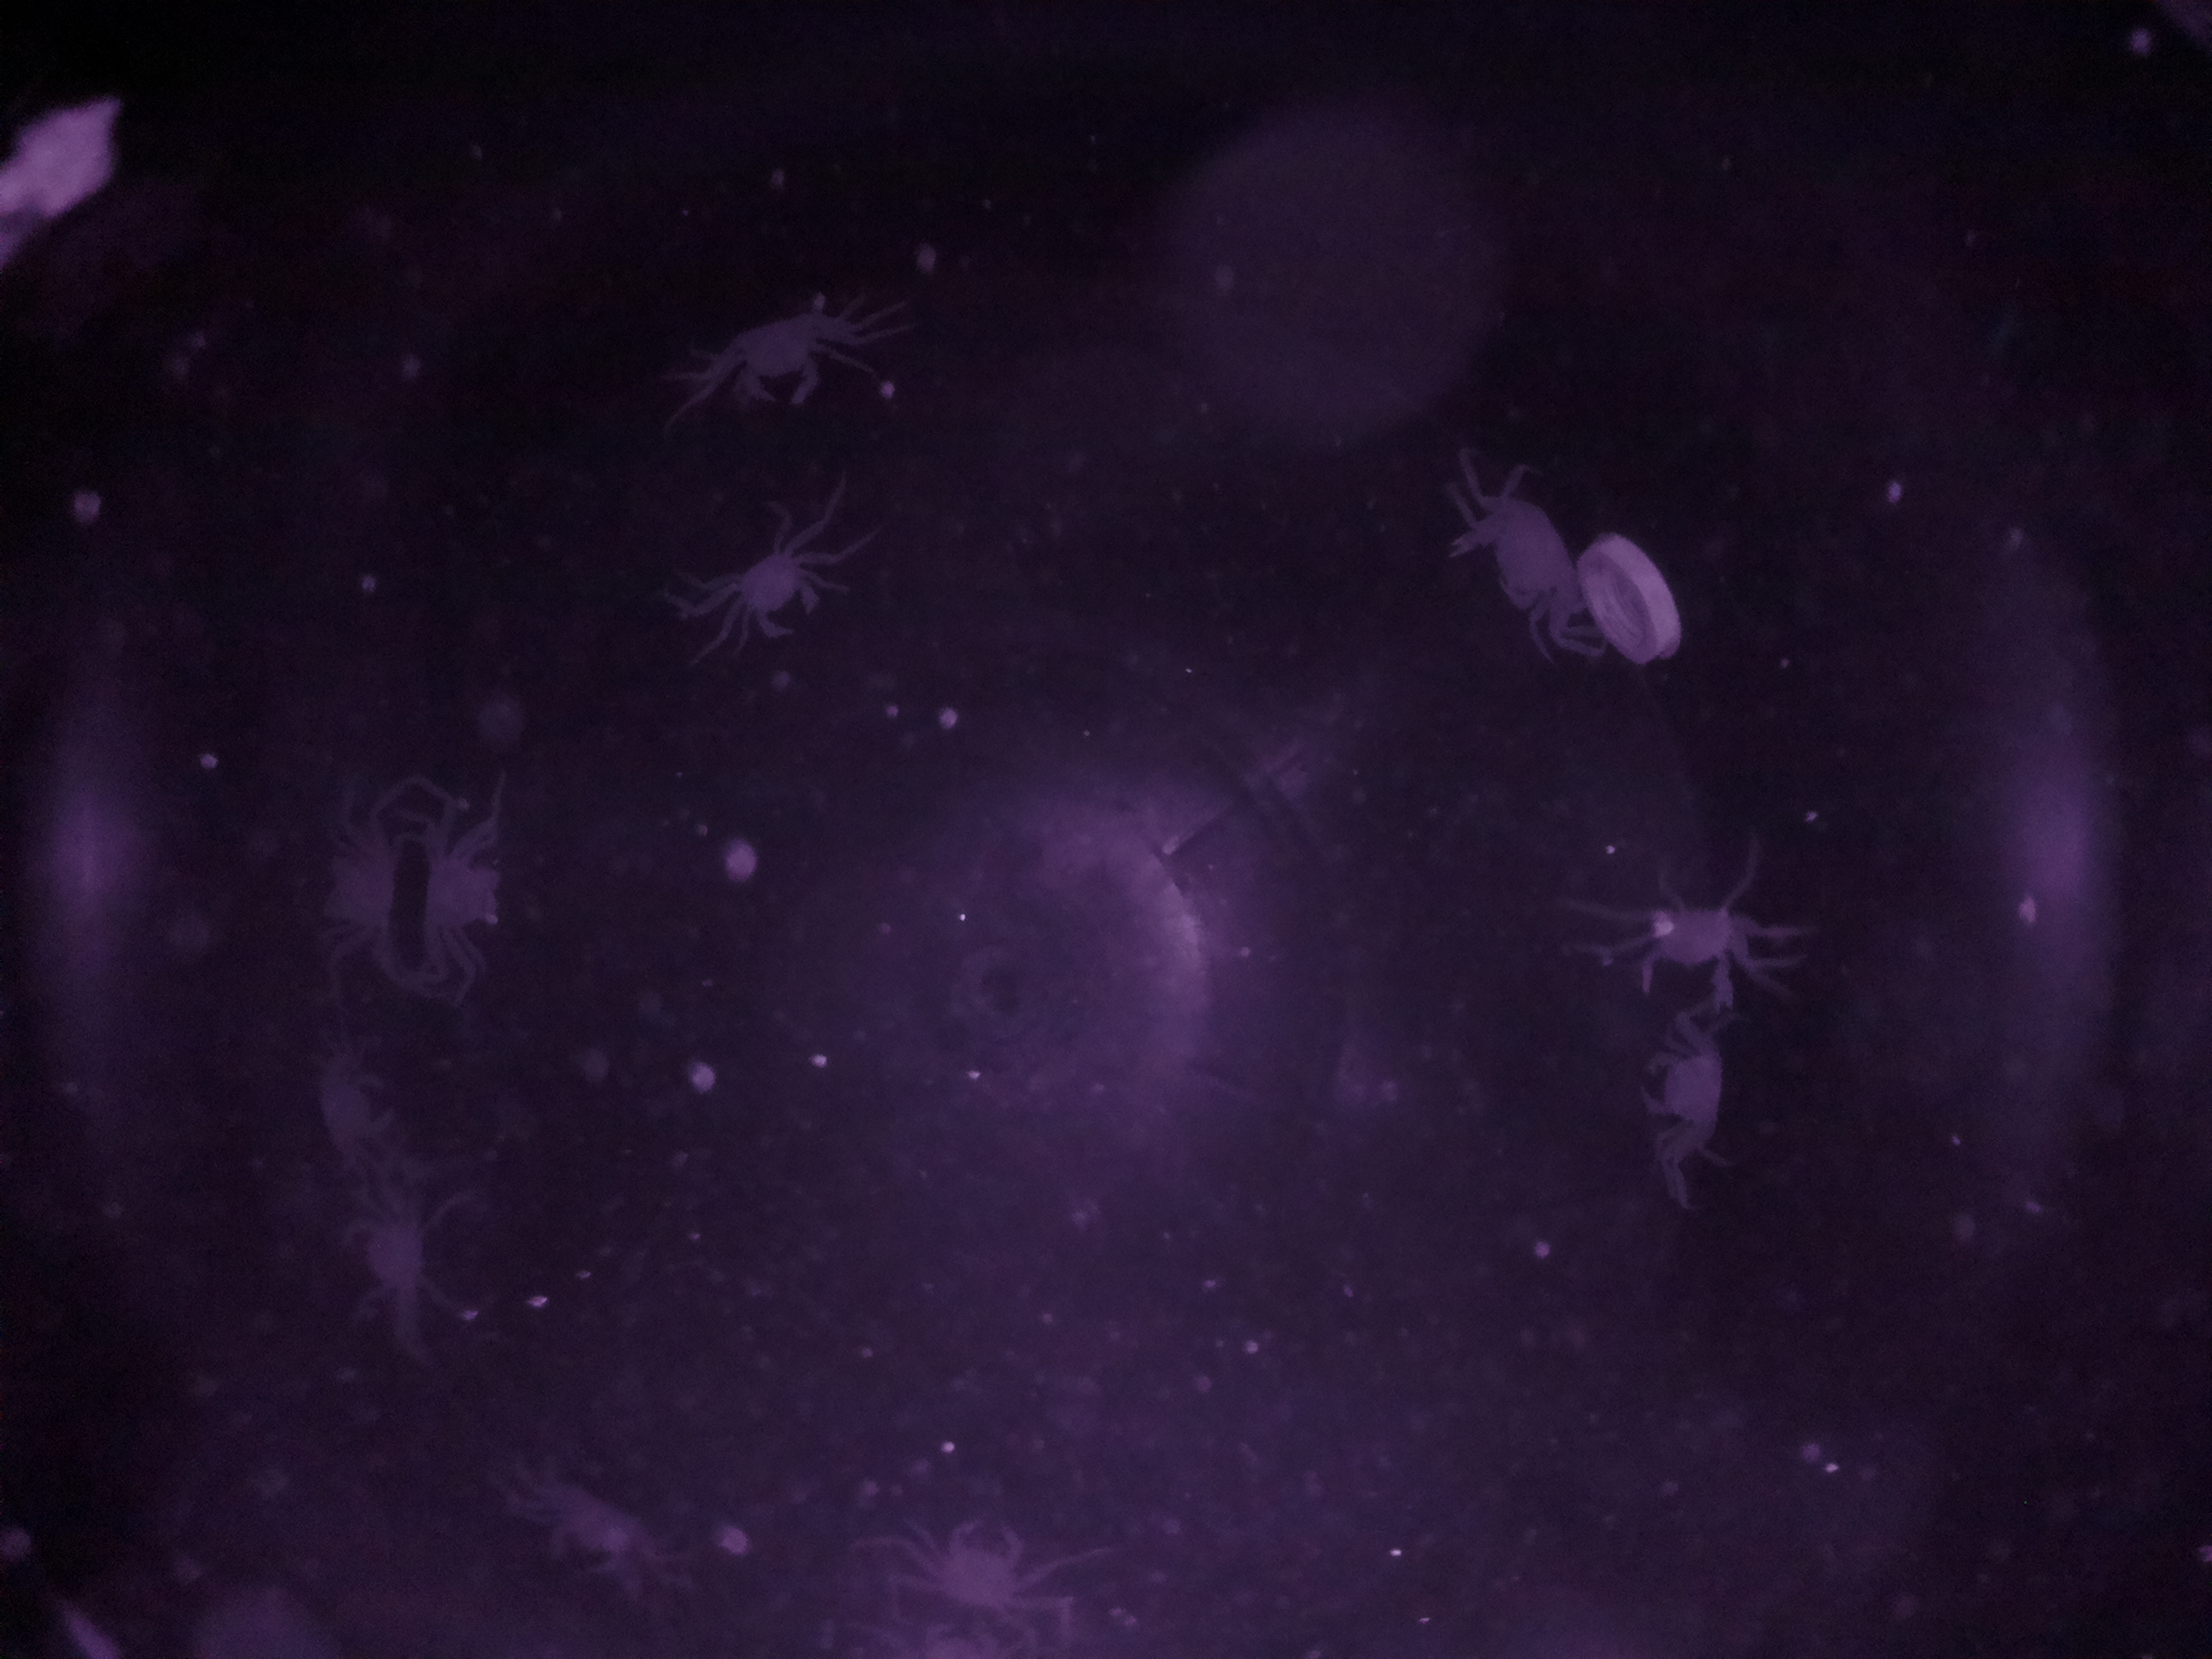Crab: (399, 769, 529, 1033), (1435, 462, 1599, 653), (1616, 1006, 1763, 1215), (887, 1488, 1076, 1638), (1608, 857, 1775, 1004), (697, 272, 841, 441), (698, 504, 843, 669)
